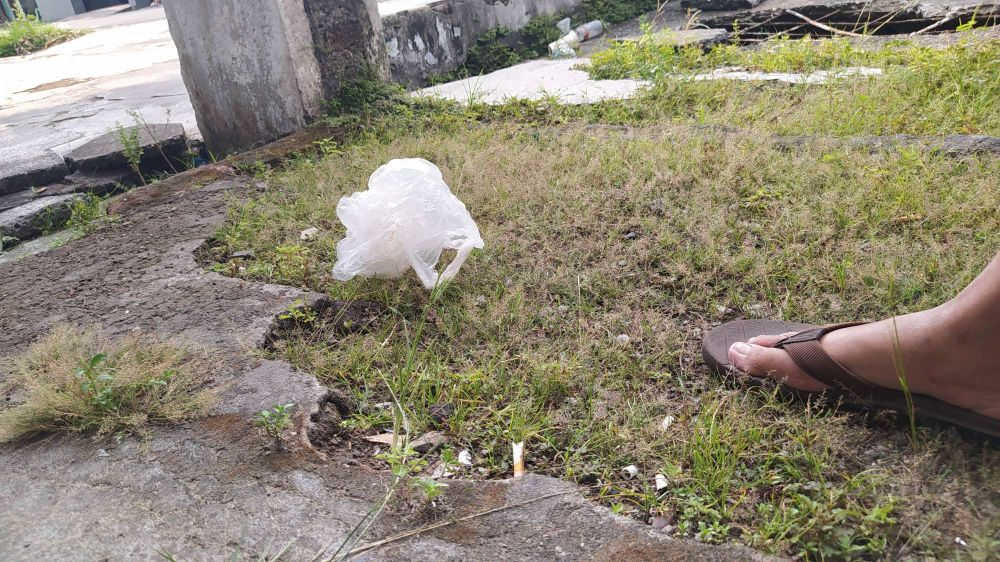plastik: (283, 157, 514, 288)
